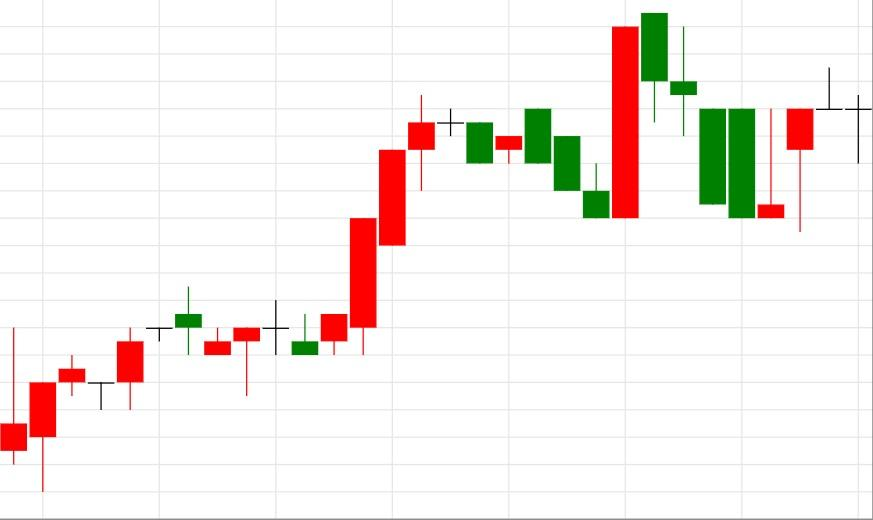bullish_engulfing_rise: (524, 26, 640, 219)
evening_star_fall: (291, 95, 494, 356)
